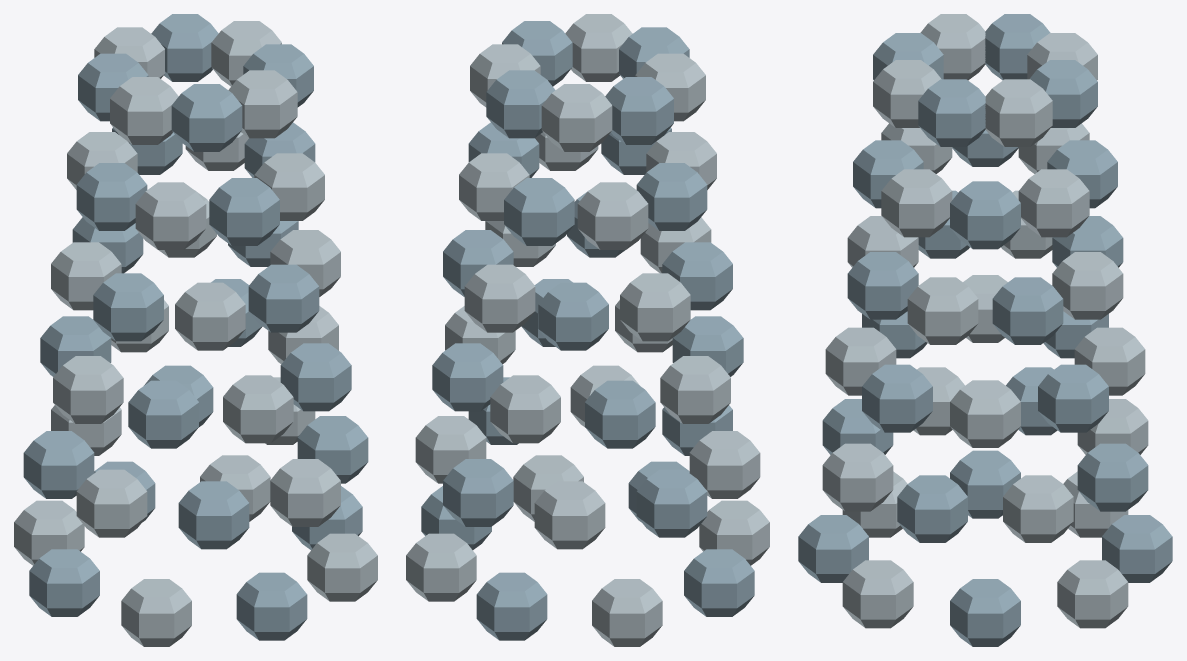
File: owl_tower.glb
3 renders of one model, left to right at view 1: azimuth 30°, elevation 25°; view 2: azimuth 150°, elevation 25°; view 3: azimuth 270°, elevation 25°, orthographic.
Parts seen in each view (by area): view 1: owl_tower; view 2: owl_tower; view 3: owl_tower.
Boxes of the visible parts, x1,y1,x2,y2 form: owl_tower: [14, 14, 377, 646]; owl_tower: [406, 14, 769, 646]; owl_tower: [798, 14, 1172, 646].
Bounding box in the file's own units: 1.34 × 2.1 × 1.38.
